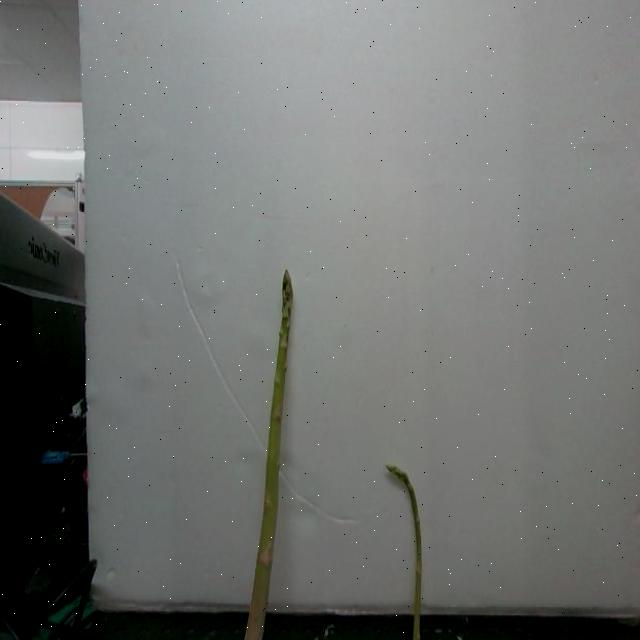aspargus: (245, 272, 295, 640), (388, 466, 424, 640)
